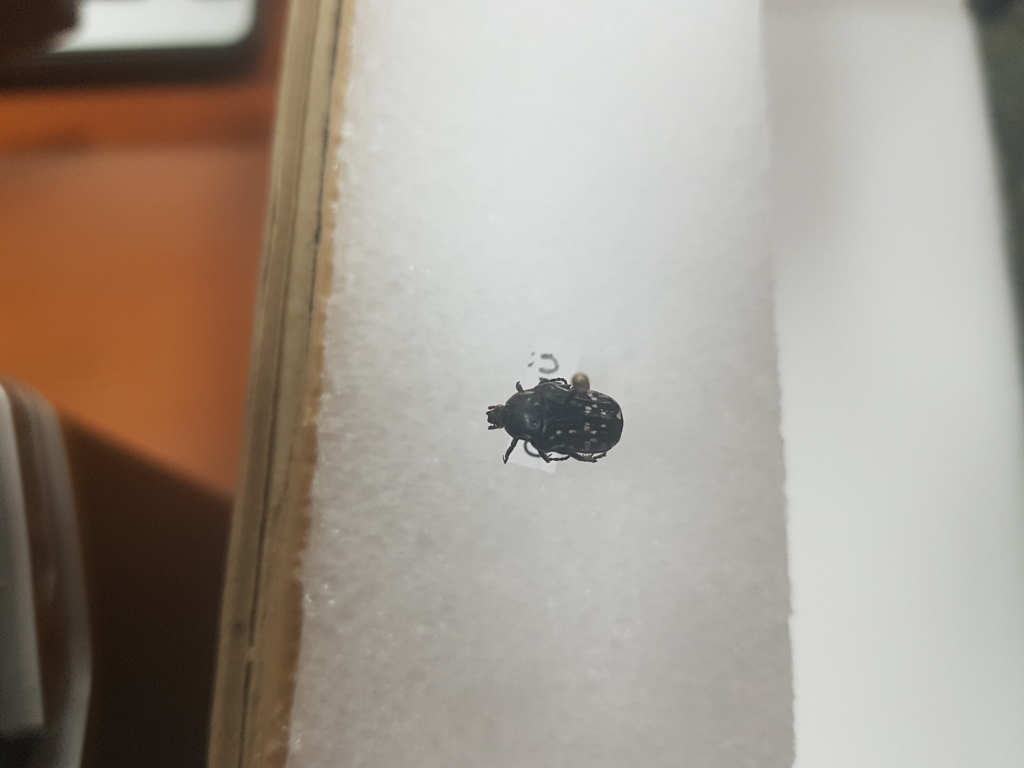Oxythyrea_albopicta: (479, 373, 628, 479)
